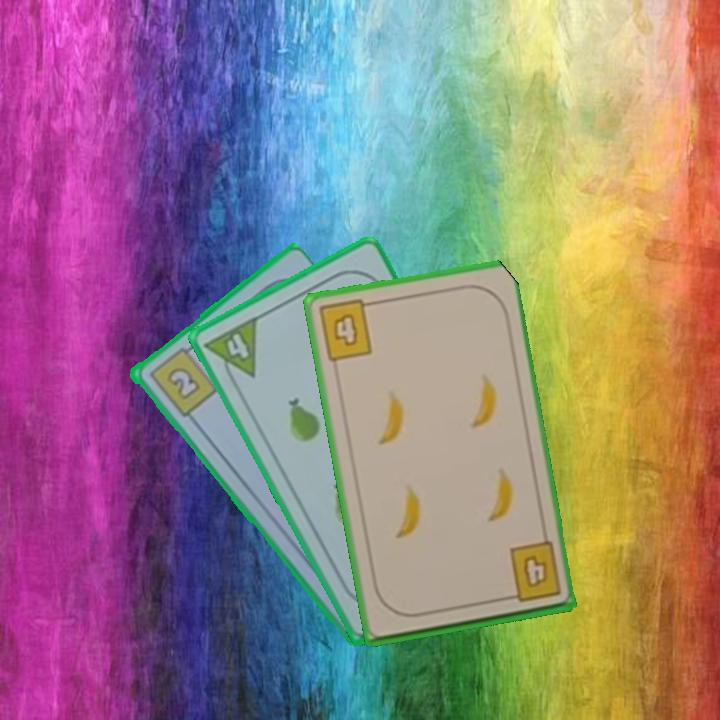2b: (144, 340, 220, 420)
4b: (499, 538, 564, 606), (314, 296, 378, 364)
4p: (200, 312, 260, 390)
